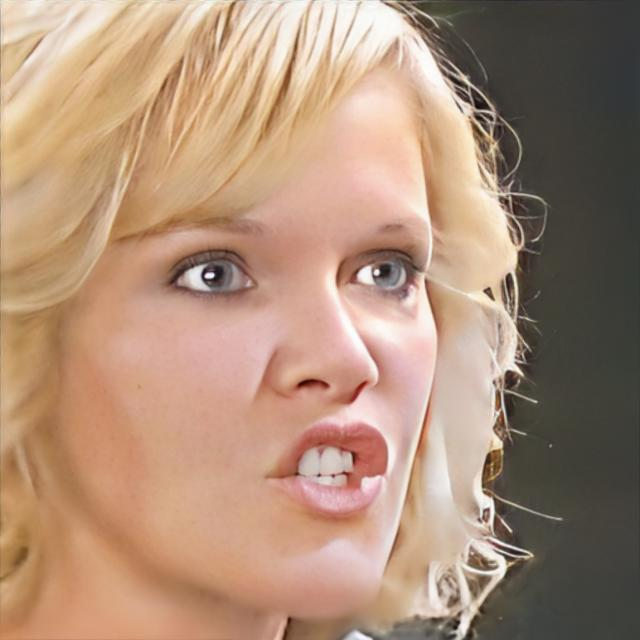disgust: (60, 41, 443, 622)
